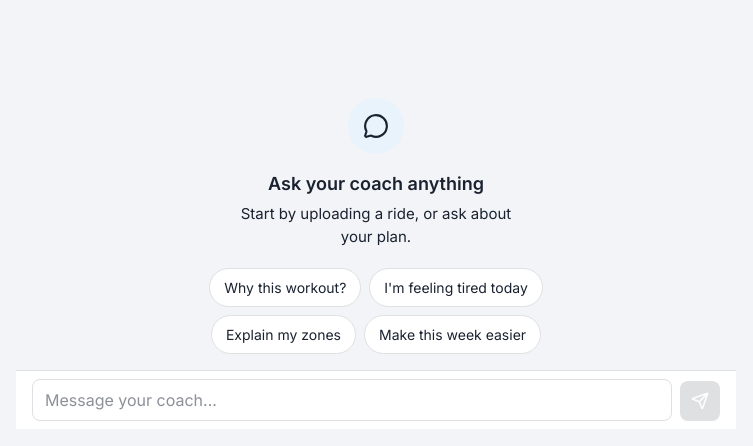
ChatScreen › textarea is disabled while streaming (after send, before done)
This screenshot has width=753, height=446.
Type "hi" into the text box named "Message input" at (352, 400), box 32,379 -> 672,421
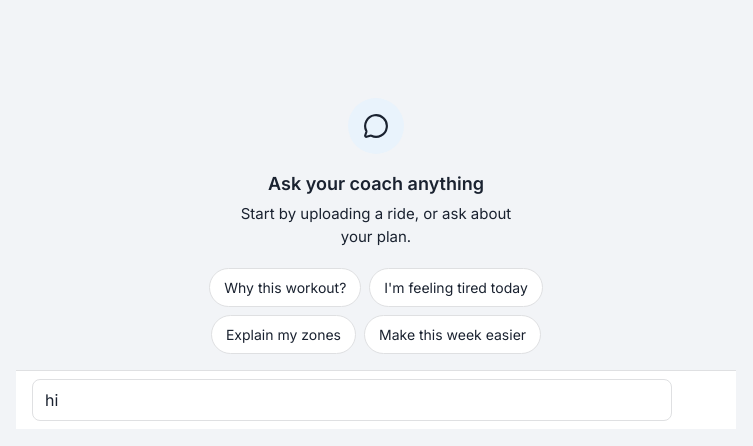
Press Enter in the text box named "Message input", box 32,379 -> 672,421
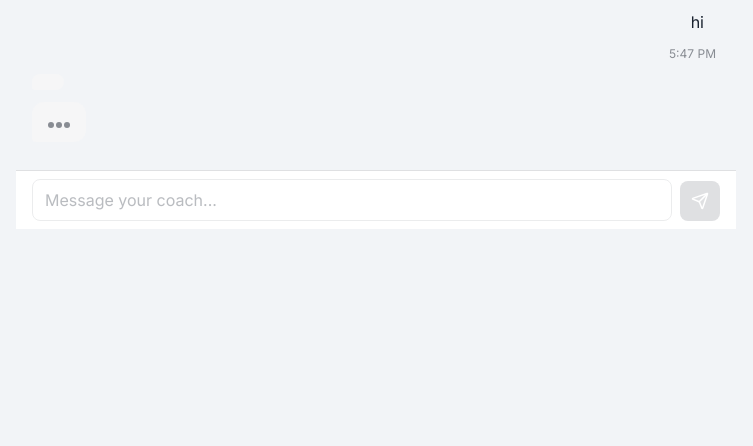
Expected: the text box named "Message input" is disabled, 32,179 -> 672,221
